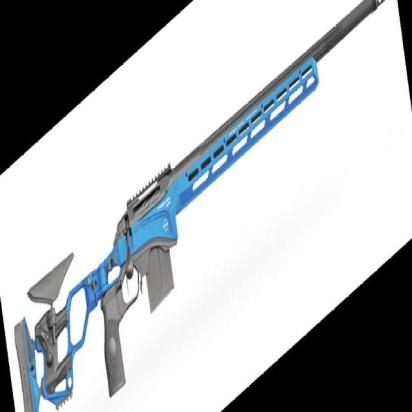Gun: (16, 0, 383, 412)
